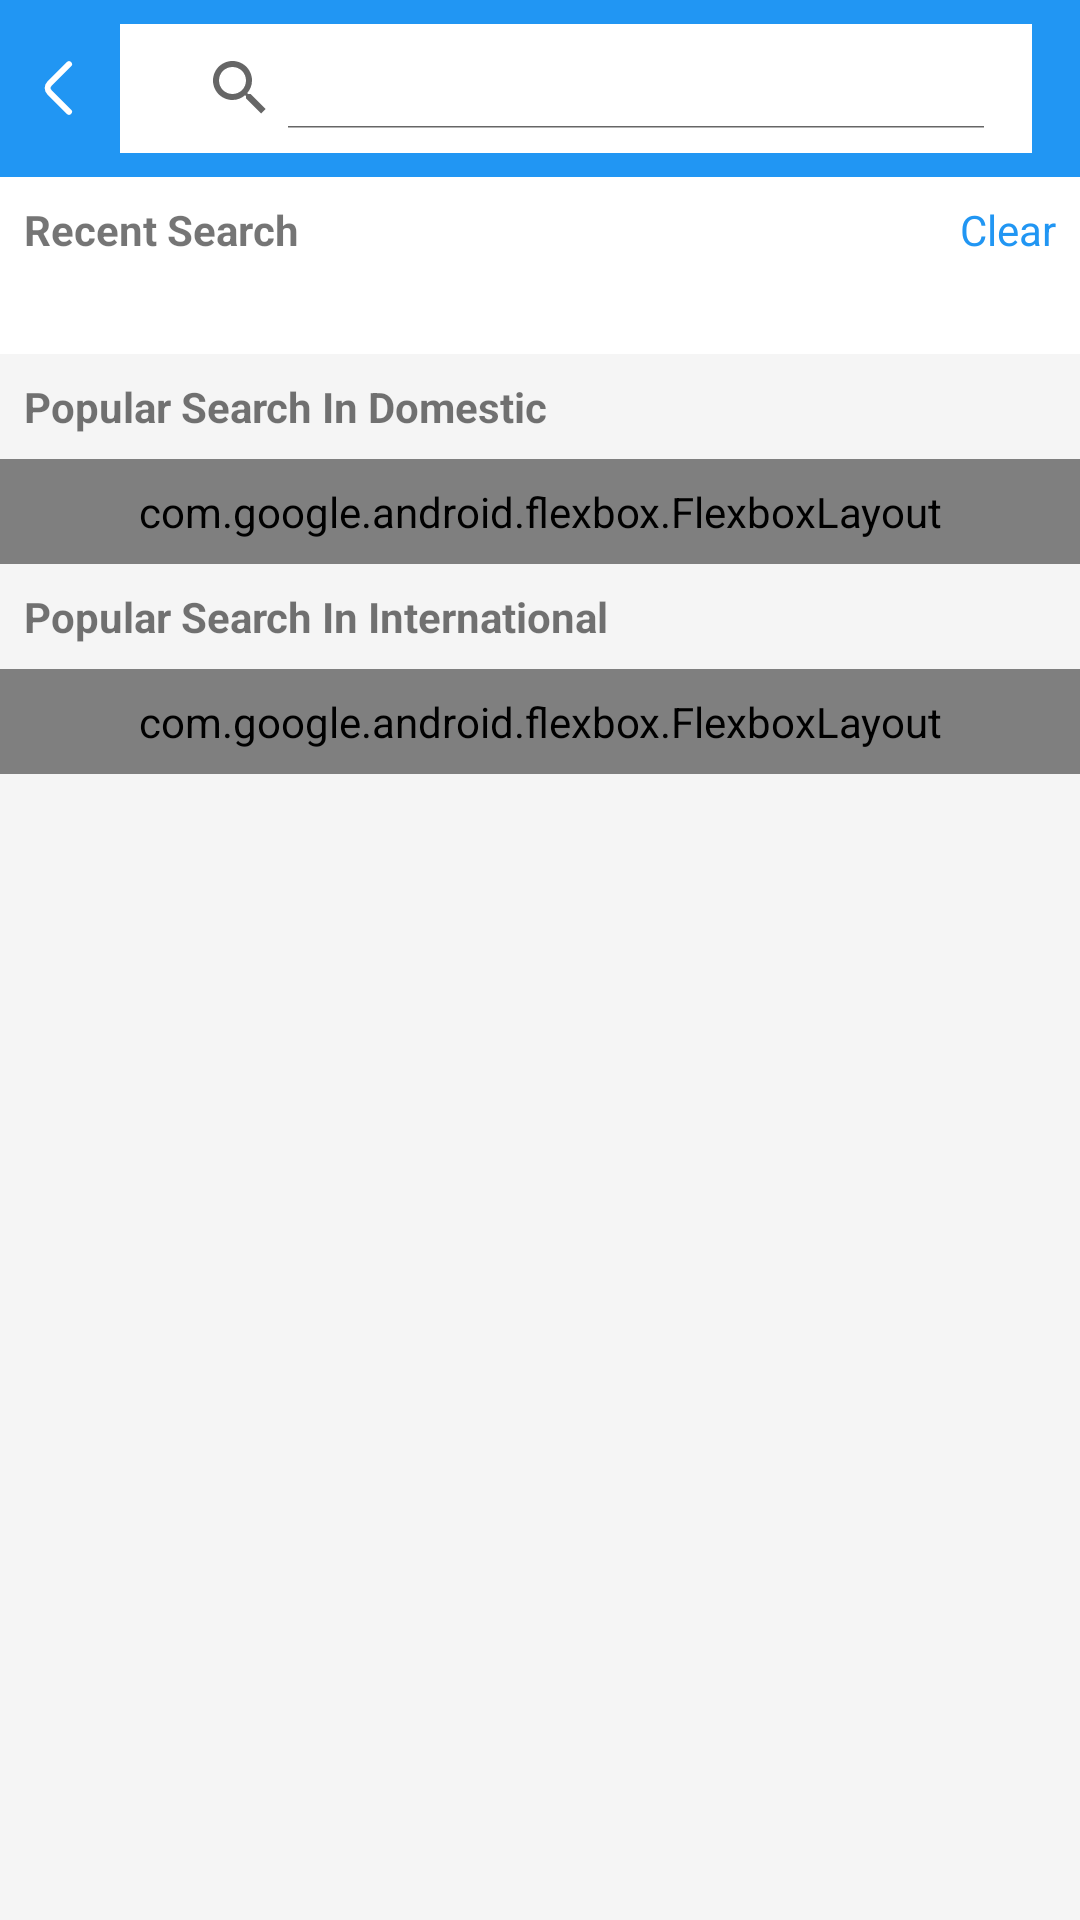

Screen size 1080 x 1920. Icon name, then its center in pixels as (x,y):
arrow left: (58,88)
